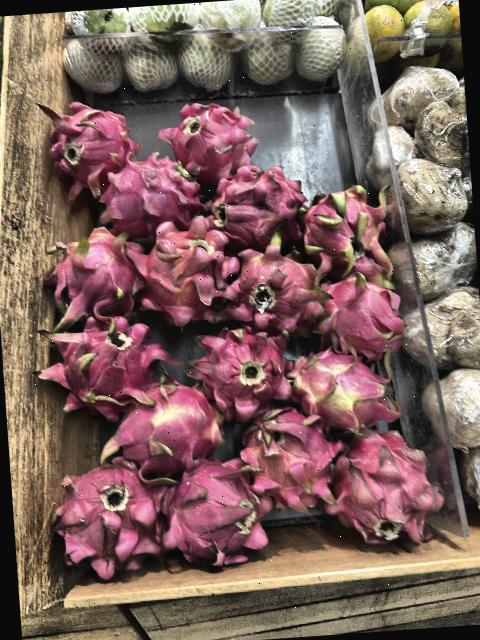buah-naga-belum-matang: (280, 335, 400, 433), (99, 385, 228, 470)
buah-naga-matang: (332, 415, 447, 547), (30, 312, 174, 416), (46, 458, 166, 578), (158, 448, 276, 568), (236, 396, 346, 514), (125, 212, 239, 324), (26, 89, 140, 194), (188, 315, 300, 417), (293, 174, 404, 276), (222, 232, 324, 340), (38, 228, 148, 322), (156, 90, 264, 181), (206, 156, 306, 248), (313, 264, 408, 357), (95, 148, 198, 232)
